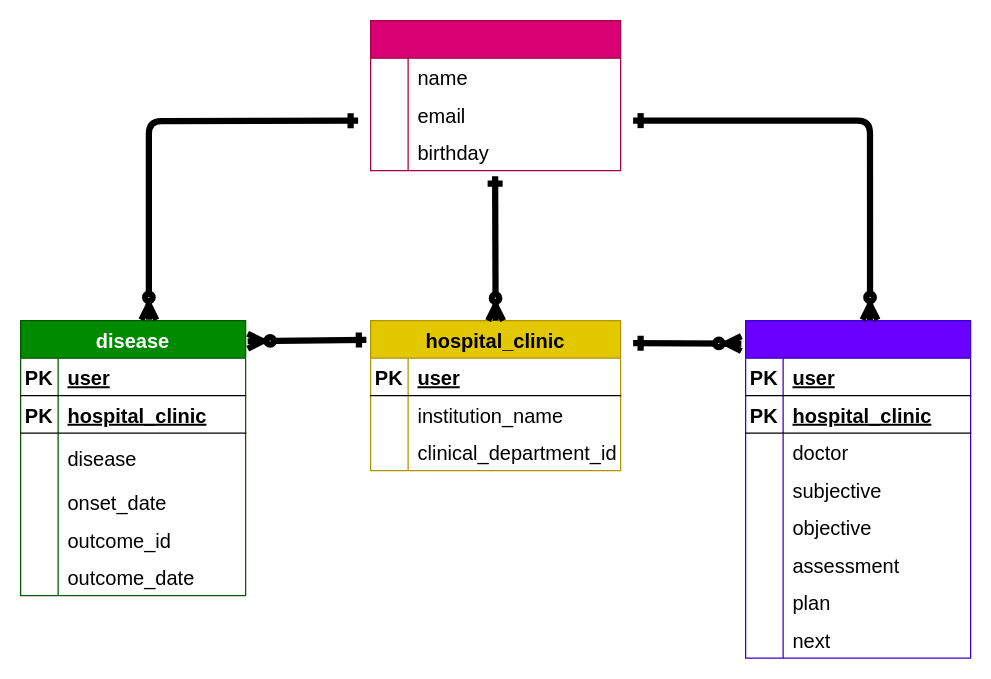
Some shapes in this 991 by 679 pixel diagram are drawn without their labels. The shapes that lost their labels are listed below. From the top down, each one's box as (x1, y1, x2, y2) in pixels, then its label:
(369, 19, 621, 171): users
(744, 319, 971, 658): kartes
